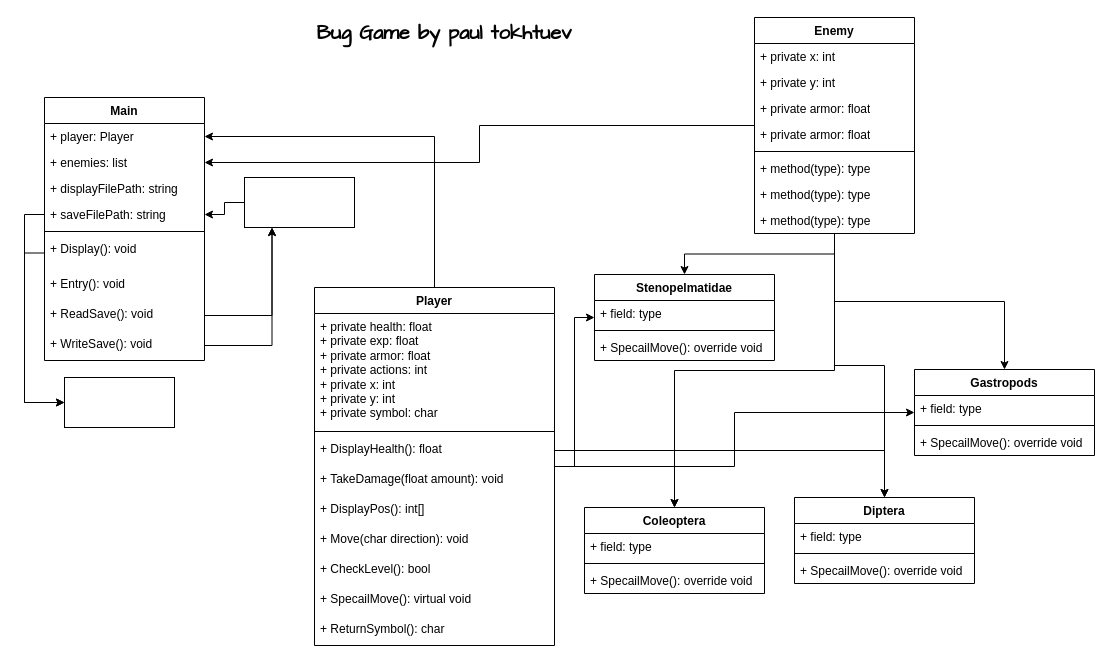
The diagram is 1112 pixels wide and 666 high, and some of its shapes have lost their labels. The centre of each missing label's shape, as x and y in pixels:
"Display Text File" goes at [119,402].
"Save Text File" goes at [299,202].
